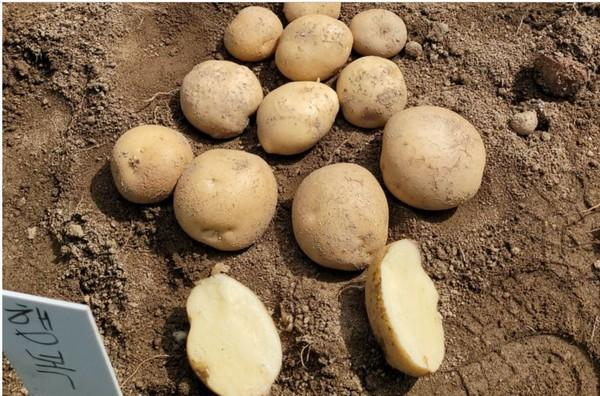potato: (282, 103, 365, 170), (359, 71, 453, 128), (171, 93, 258, 153), (172, 37, 247, 82), (248, 48, 317, 94), (322, 32, 382, 76)
